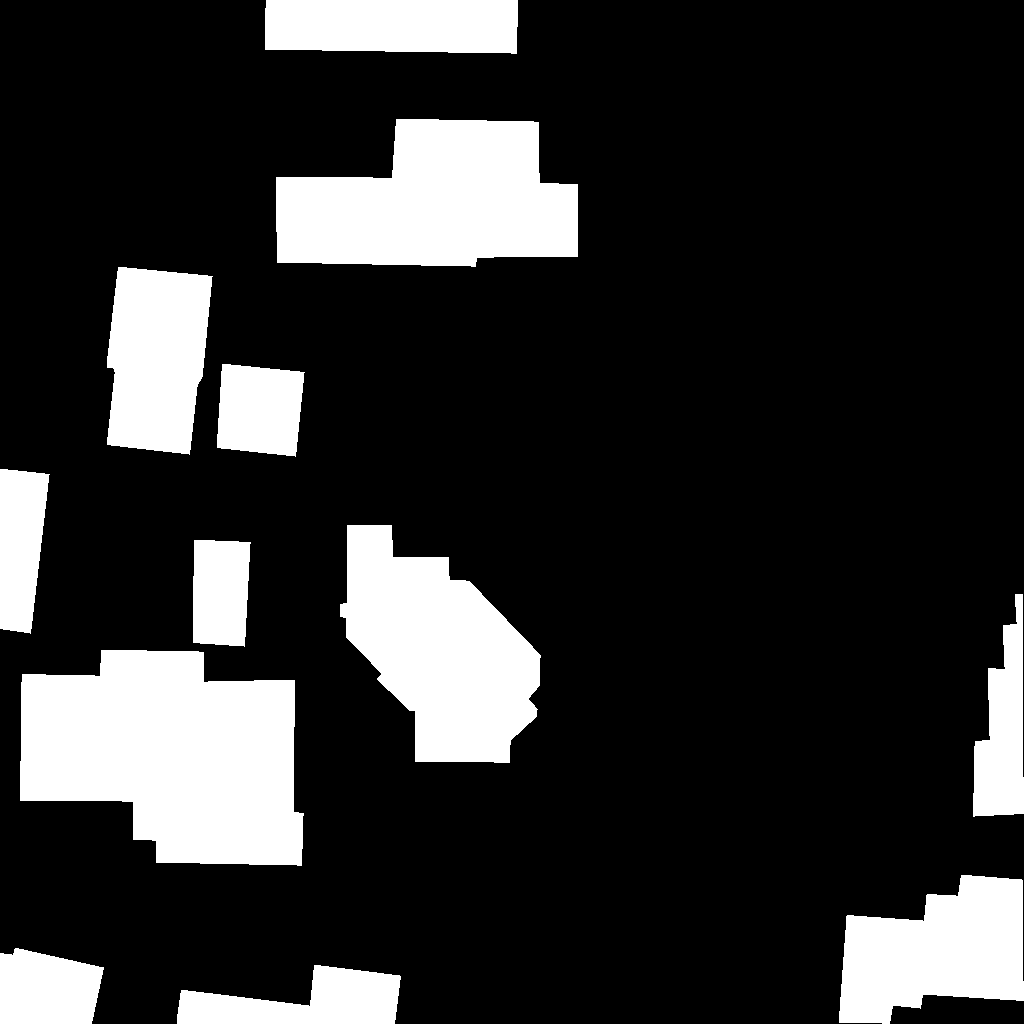building: (20, 650, 304, 866), (340, 525, 541, 763), (276, 119, 578, 267), (839, 875, 1024, 1024), (107, 267, 213, 455), (265, 0, 519, 54), (177, 965, 402, 1024), (973, 594, 1024, 817), (0, 469, 50, 634), (217, 364, 305, 457), (0, 948, 105, 1024), (193, 540, 251, 647)
